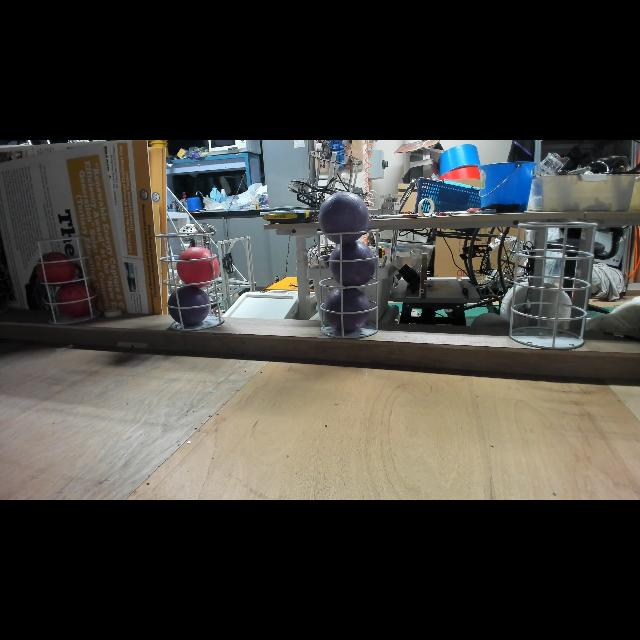P: (317, 191, 369, 245), (328, 240, 376, 290), (323, 287, 371, 333), (167, 286, 211, 326)
R: (176, 246, 220, 288), (54, 282, 98, 318), (35, 251, 77, 287)
S: (508, 220, 598, 350), (154, 230, 226, 332), (316, 226, 380, 340), (32, 235, 102, 327)
